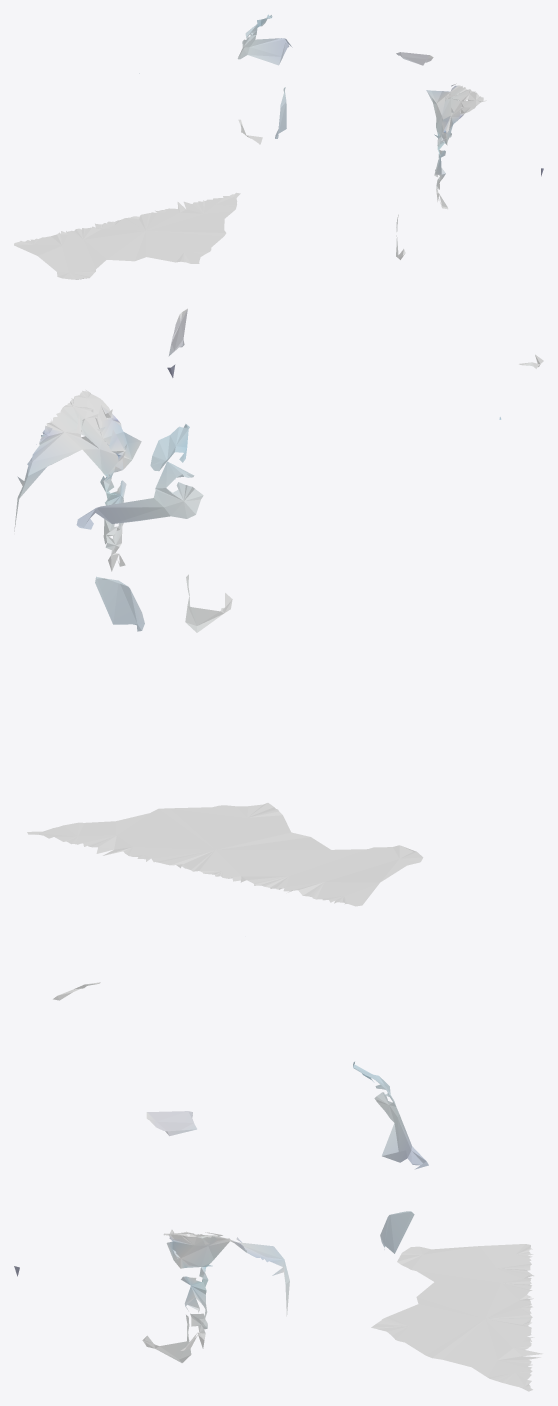
3 renders of one model, top to bottom at view 1: azimuth 30°, elevation 25°; view 2: azimuth 150°, elevation 25°; view 3: azimuth 270°, elevation 25°, orthographic. The views are drawn at different scales.
Size of the model in its own units: 9.61 by 6.97 by 10.3.
